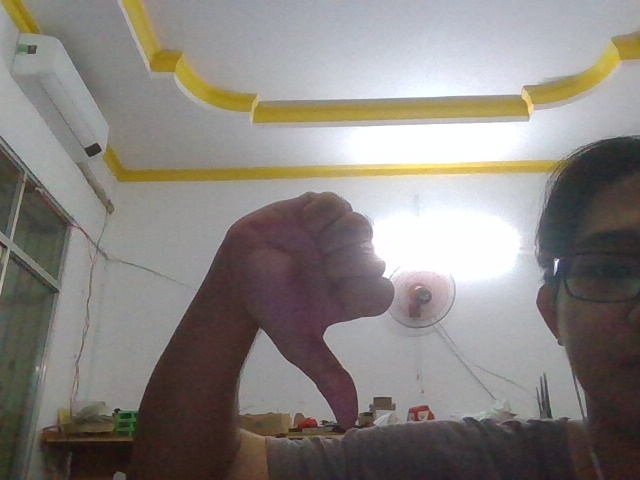thumb_down: (197, 183, 406, 430)
